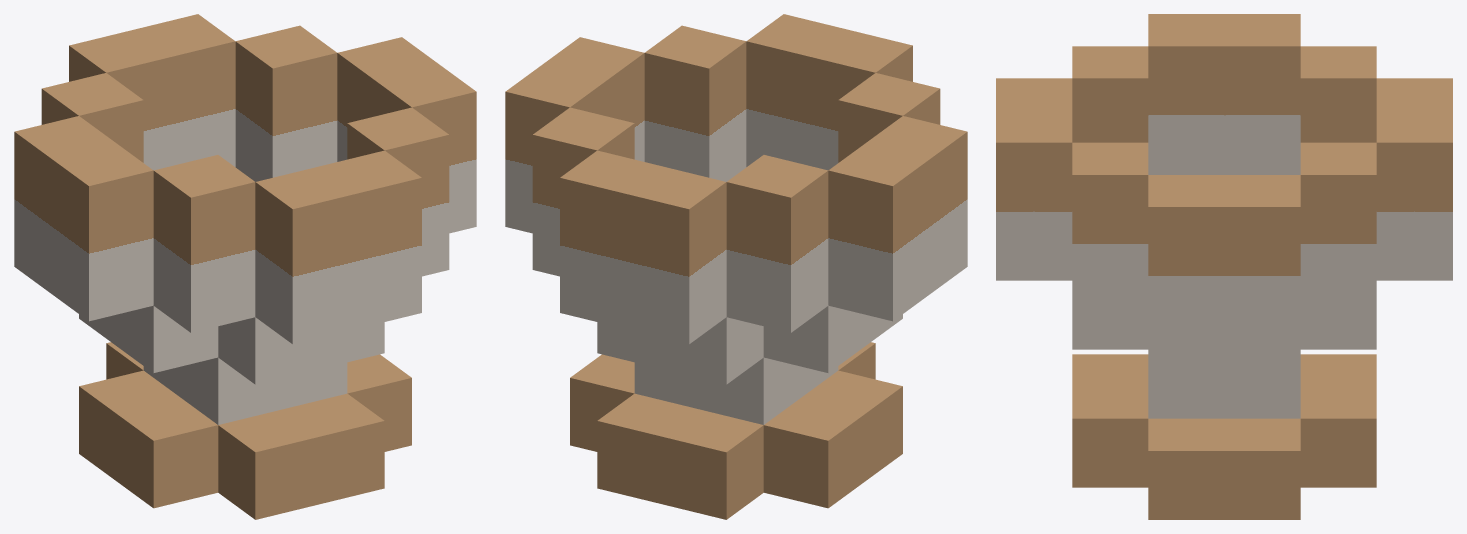
File: Cup1.obj
3 views of the same model, side by side, from view 1: azimuth 30°, elevation 25°; view 2: azimuth 150°, elevation 25°; view 3: azimuth 270°, elevation 25° (orthographic). The views are drawn at different scales.
Parts seen in each view (by area): view 1: Model; view 2: Model; view 3: Model.
Part boxes in pixels (left/top/right/bottom): Model: left=14, top=14, right=476, bottom=519; Model: left=505, top=14, right=967, bottom=519; Model: left=996, top=14, right=1452, bottom=519.
Bounding box in the file's own units: 6 × 5 × 6.
Materials: 1 (1 with a texture image).
